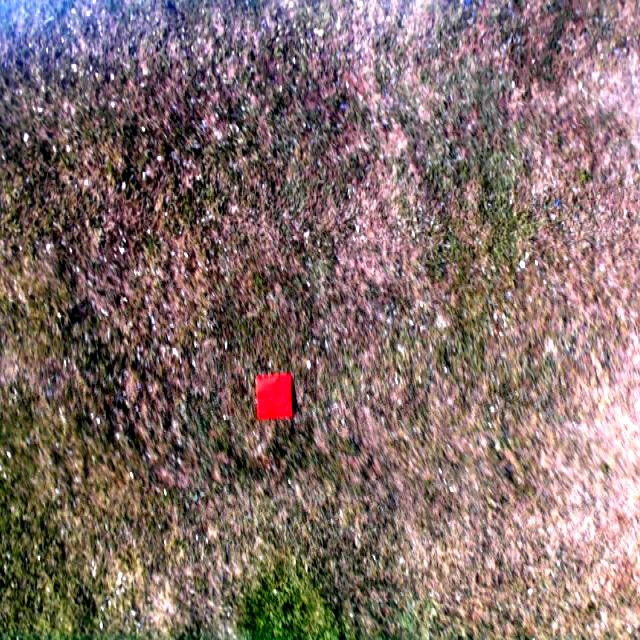red_square: (254, 374, 294, 422)
